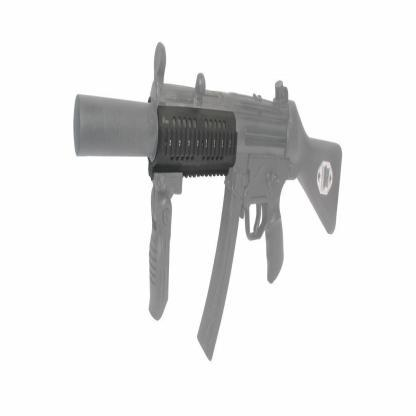Gun: (68, 29, 344, 383)
